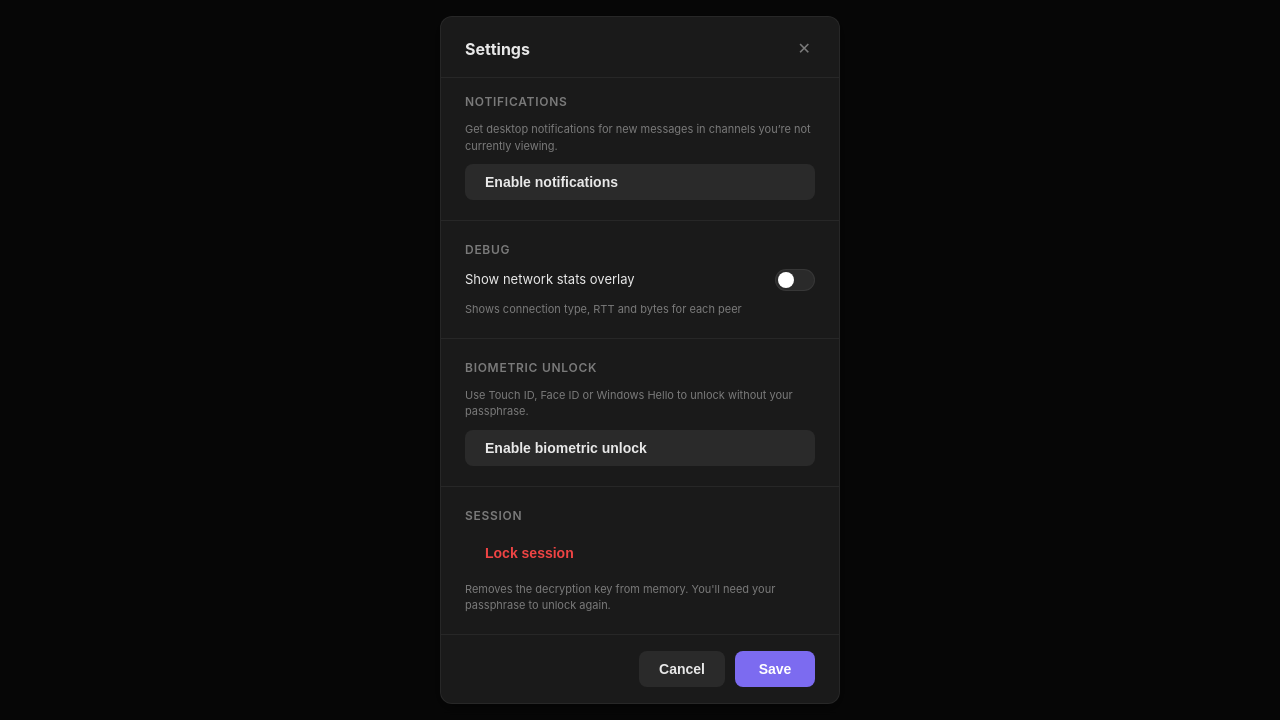
Test: SettingsModal — biometric unlock not yet enabled › shows "Setting up…" while setup is in progress
The width and height of the screenshot is (1280, 720).
(page scrolled)
Click the button "Enable biometric unlock" at [640, 448], box [465,430,815,466]
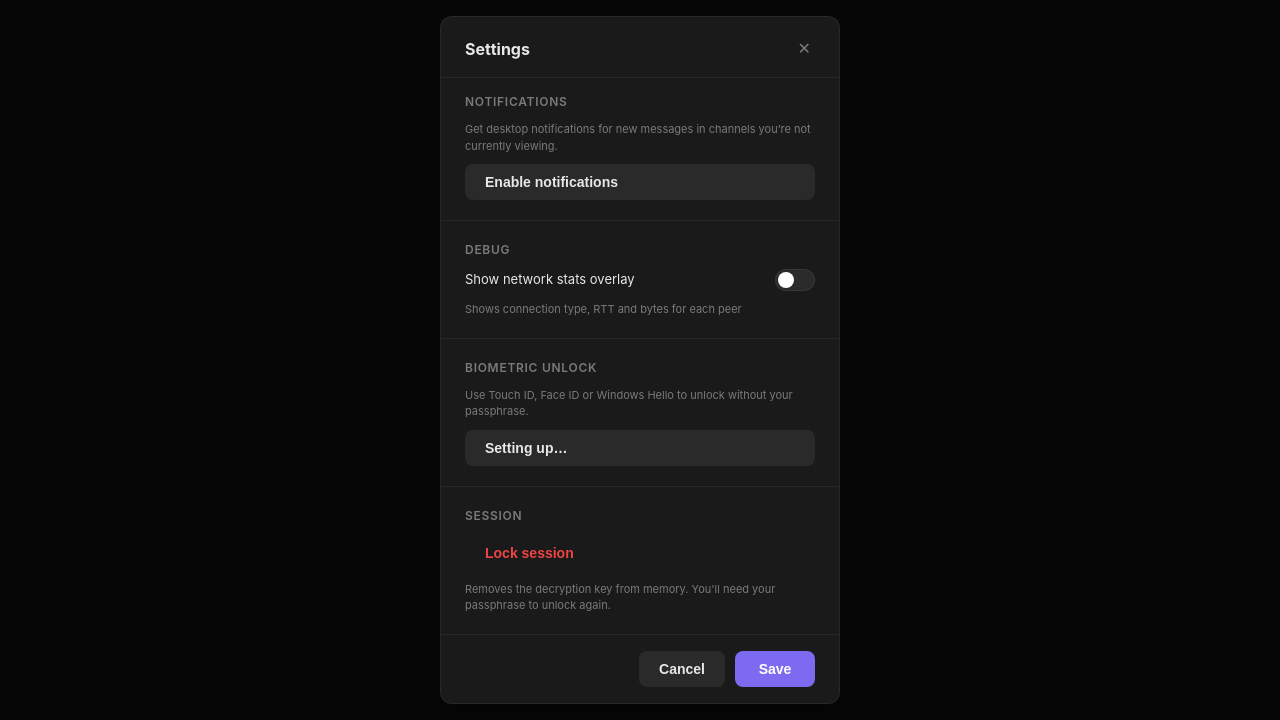
expect the button "Setting up…" is shown: met, box [465,430,815,466]
